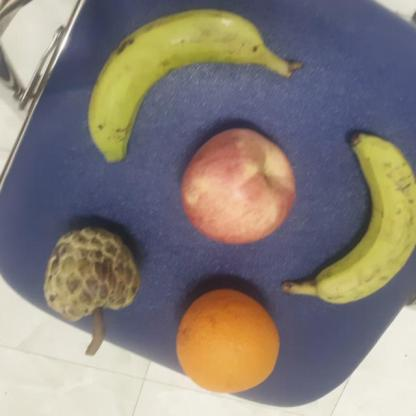annona: (34, 227, 156, 327)
apple: (177, 124, 309, 249)
banana: (87, 7, 304, 163), (278, 129, 416, 308)
orange: (169, 280, 286, 397)
